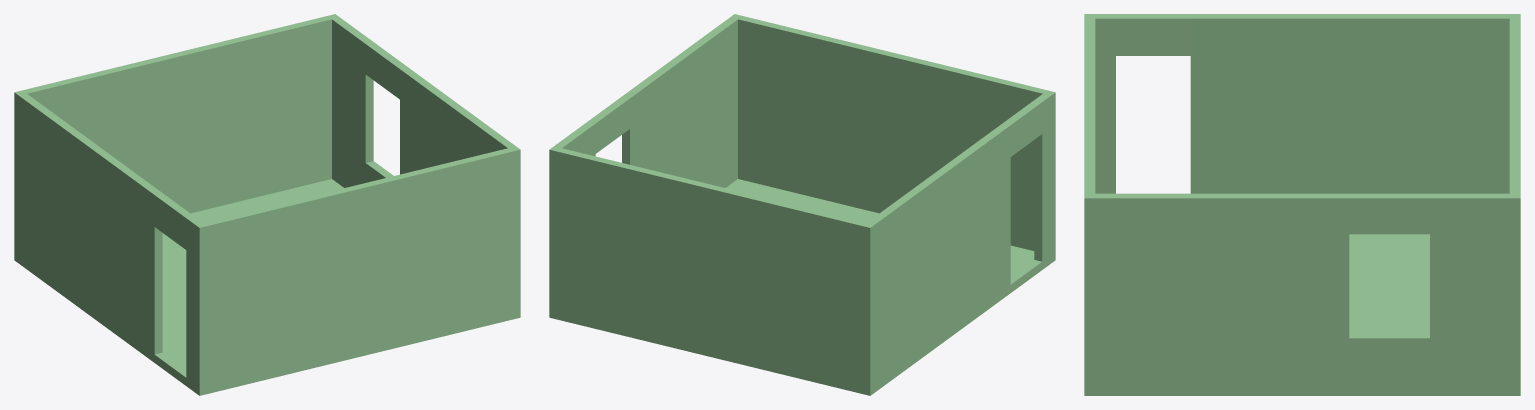
The model's file is bedroom.fbx.
The picture shows the model from 3 angles, left to right: view 1: azimuth 30°, elevation 25°; view 2: azimuth 150°, elevation 25°; view 3: azimuth 270°, elevation 25°; orthographic projection. The views are drawn at different scales.
Visible parts, largest first — view 1: Cube; view 2: Cube; view 3: Cube.
Boxes of the visible parts, left/top/right/bottom form: Cube: left=14, top=14, right=520, bottom=395; Cube: left=549, top=14, right=1055, bottom=395; Cube: left=1084, top=14, right=1520, bottom=395.
Size of the model in its own units: 2000 by 1000 by 2000.
